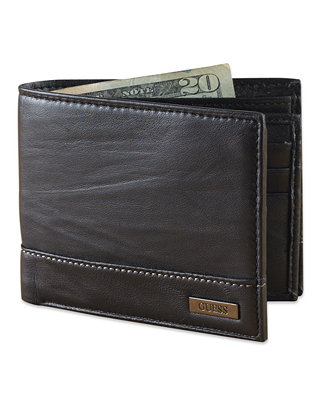monedero: (17, 75, 306, 343)
